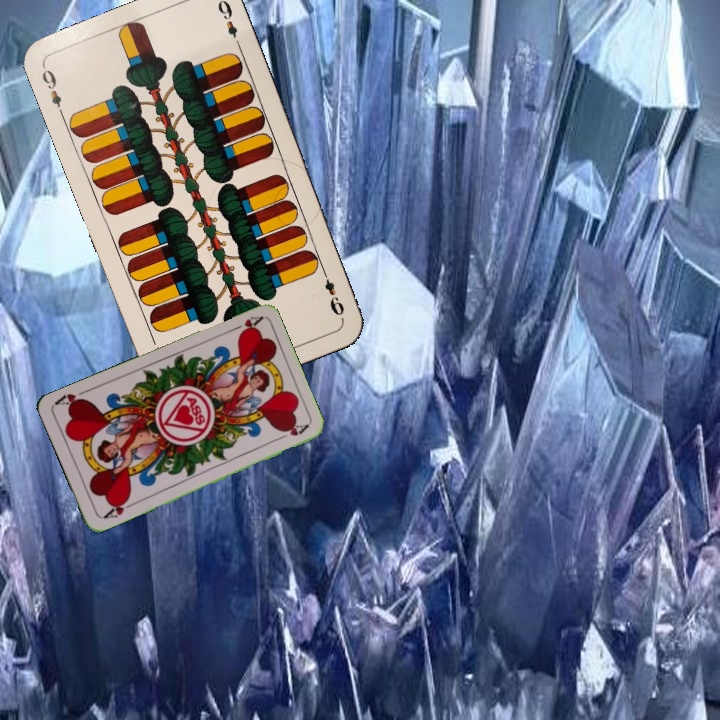E9: (37, 62, 67, 119), (318, 264, 347, 321)
HA: (99, 494, 137, 521), (225, 312, 264, 338)
